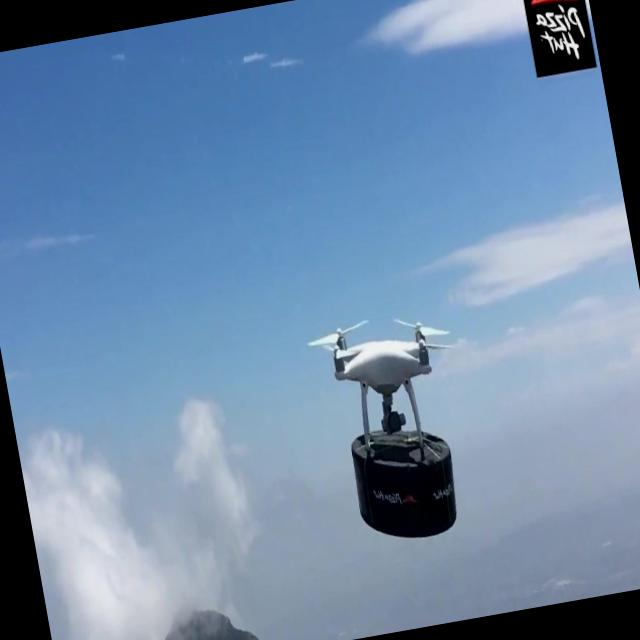drone: (303, 304, 470, 464)
